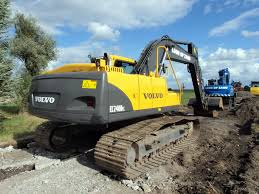excavator: (34, 34, 205, 182)
